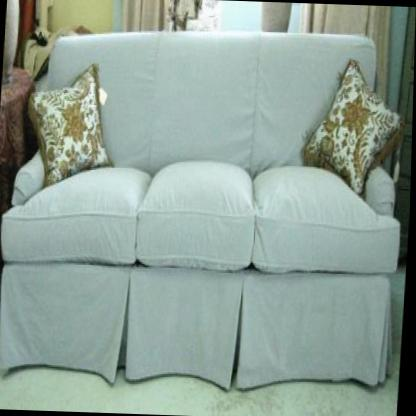Sofa: (0, 23, 415, 398)
